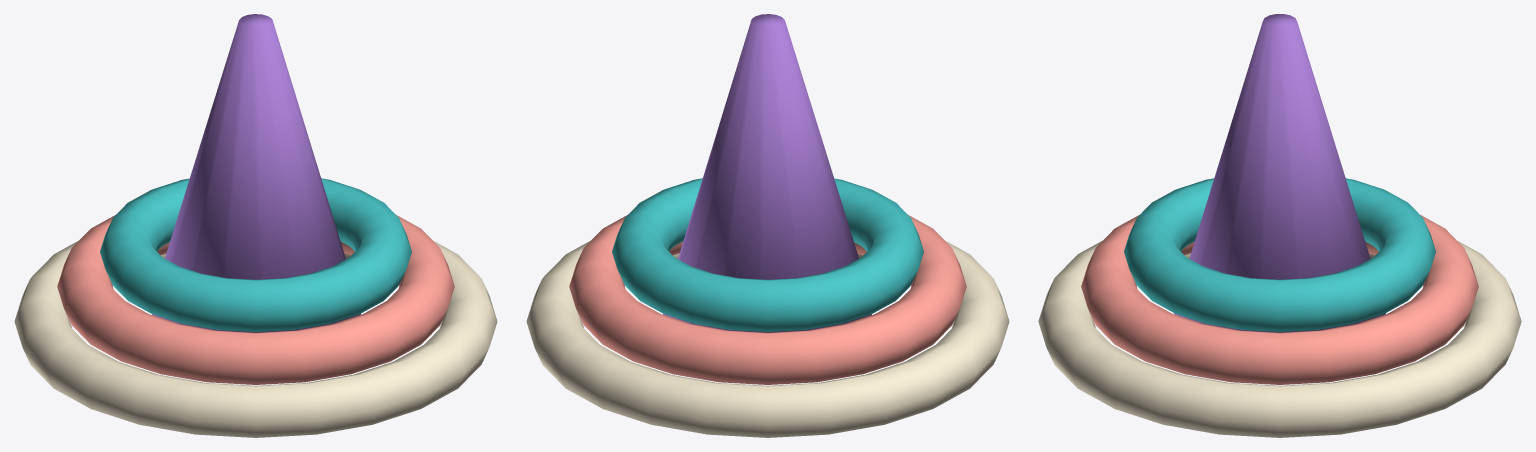
Rendered from r061_dungeon_shell_props_shell_01.glb.
3 renders of one model, left to right at view 1: azimuth 30°, elevation 25°; view 2: azimuth 150°, elevation 25°; view 3: azimuth 270°, elevation 25°, orthographic.
Visible parts, largest first — view 1: r061_dungeon_shell_props_shell_01.001; view 2: r061_dungeon_shell_props_shell_01.001; view 3: r061_dungeon_shell_props_shell_01.001.
Part boxes in pixels (bbox=[...]): r061_dungeon_shell_props_shell_01.001: bbox=[14, 14, 497, 437]; r061_dungeon_shell_props_shell_01.001: bbox=[526, 14, 1009, 437]; r061_dungeon_shell_props_shell_01.001: bbox=[1038, 14, 1521, 437].
Size of the model in its own units: 2.26 by 1.68 by 2.26.
